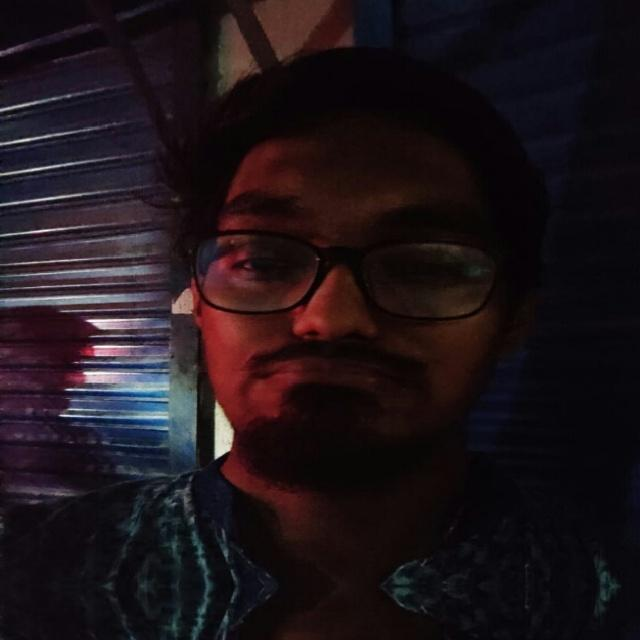Sad: (185, 102, 526, 510)
